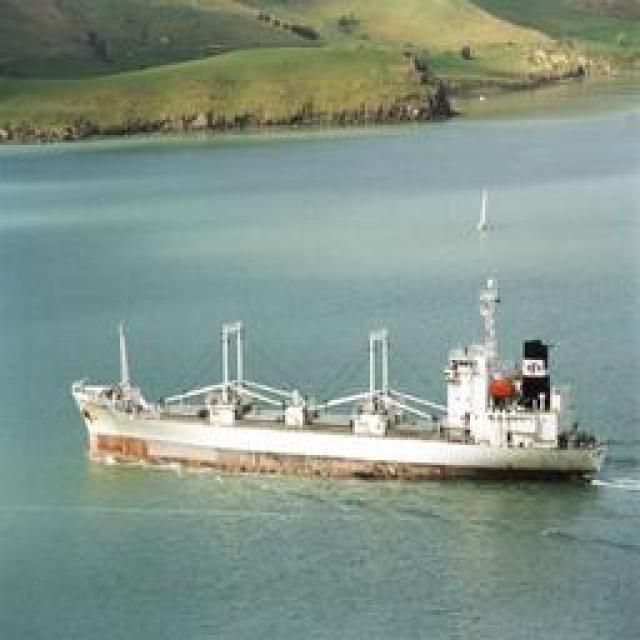CIV_Ship: (62, 302, 610, 486)
